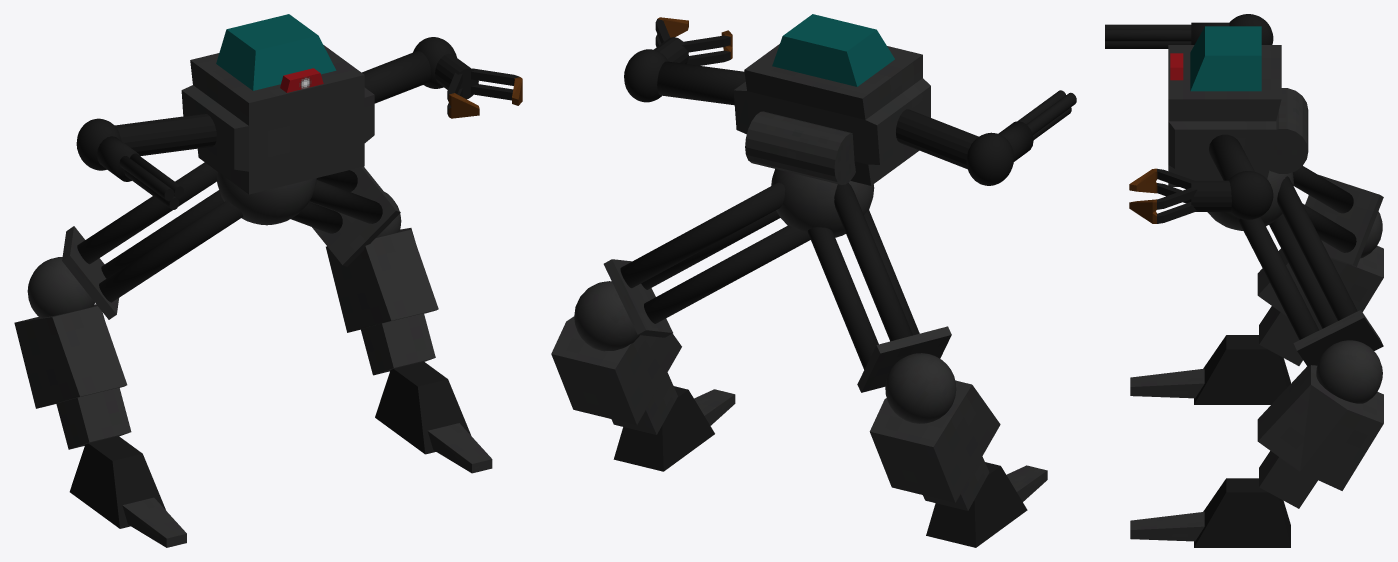
Rendered from npc_security3.fbx.
3 views of the same model, side by side, from view 1: azimuth 30°, elevation 25°; view 2: azimuth 150°, elevation 25°; view 3: azimuth 270°, elevation 25° (orthographic). The views are drawn at different scales.
Visible parts, largest first — view 1: Cube.002; view 2: Cube.002; view 3: Cube.002.
Part boxes in pixels (x1,y1,x2,y2): Cube.002: [14, 14, 522, 547]; Cube.002: [551, 14, 1076, 547]; Cube.002: [1105, 14, 1383, 547].
Bounding box in the file's own units: 175 × 188 × 112.
